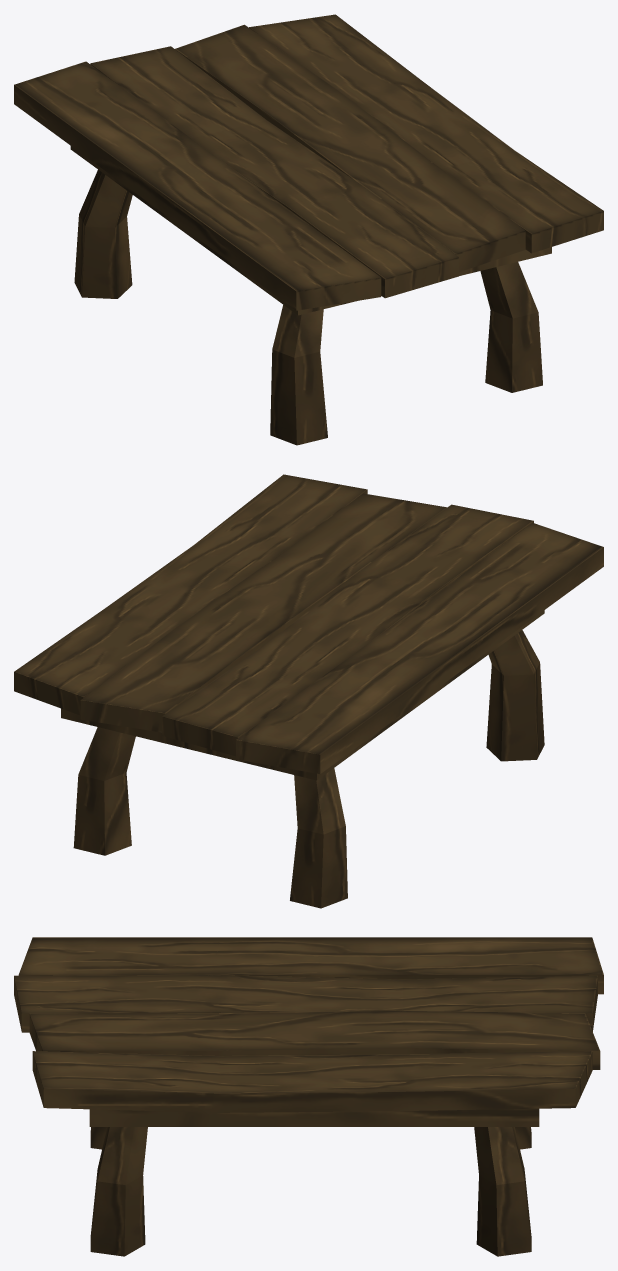
Rendered from stol_01.fbx.
The picture shows the model from 3 angles, top to bottom: view 1: azimuth 30°, elevation 25°; view 2: azimuth 150°, elevation 25°; view 3: azimuth 270°, elevation 25°; orthographic projection.
Parts seen in each view (by area): view 1: Cube; view 2: Cube; view 3: Cube.
Boxes of the visible parts, left/top/right/bottom form: Cube: left=14, top=14, right=603, bottom=445; Cube: left=14, top=474, right=603, bottom=908; Cube: left=14, top=937, right=603, bottom=1256.
Bounding box in the file's own units: 523 × 296 × 860.
